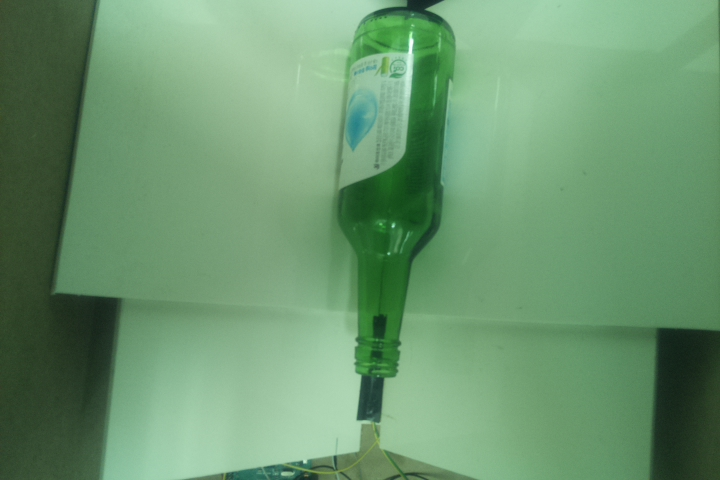soju: (334, 6, 457, 381)
